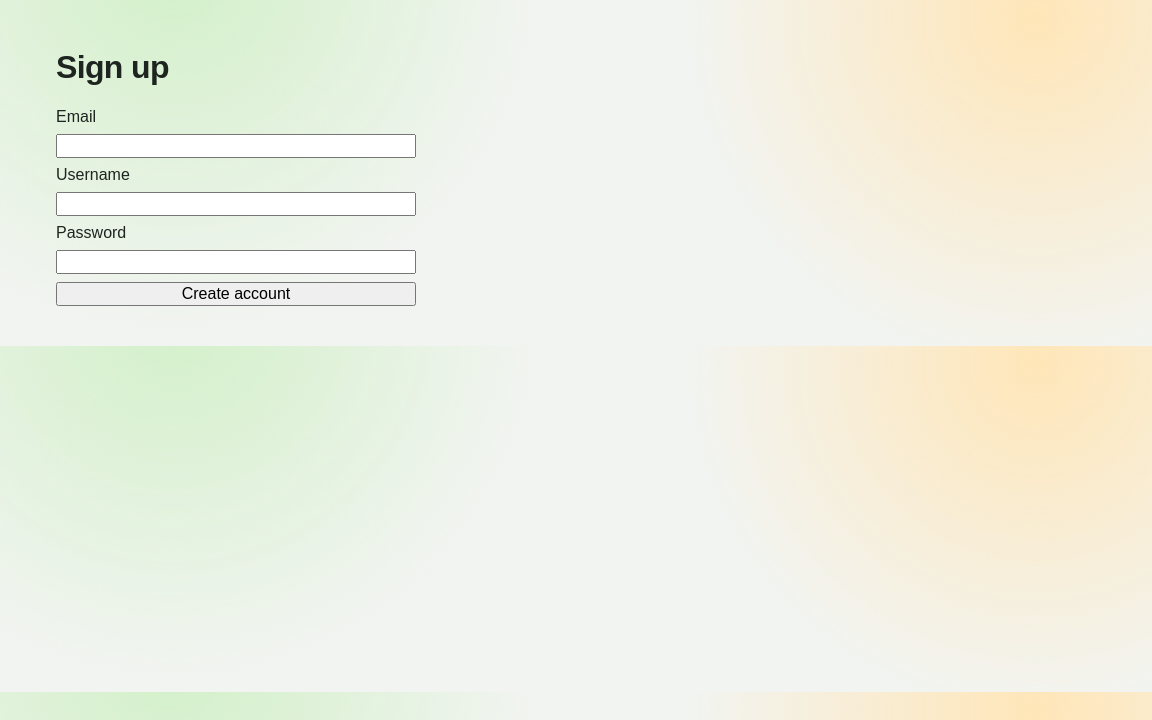
SignupPage › shows error when signup fails
The image size is (1152, 720).
In the field labelled "Email": point(236, 146) [56, 134, 416, 158], type "a@b.com"
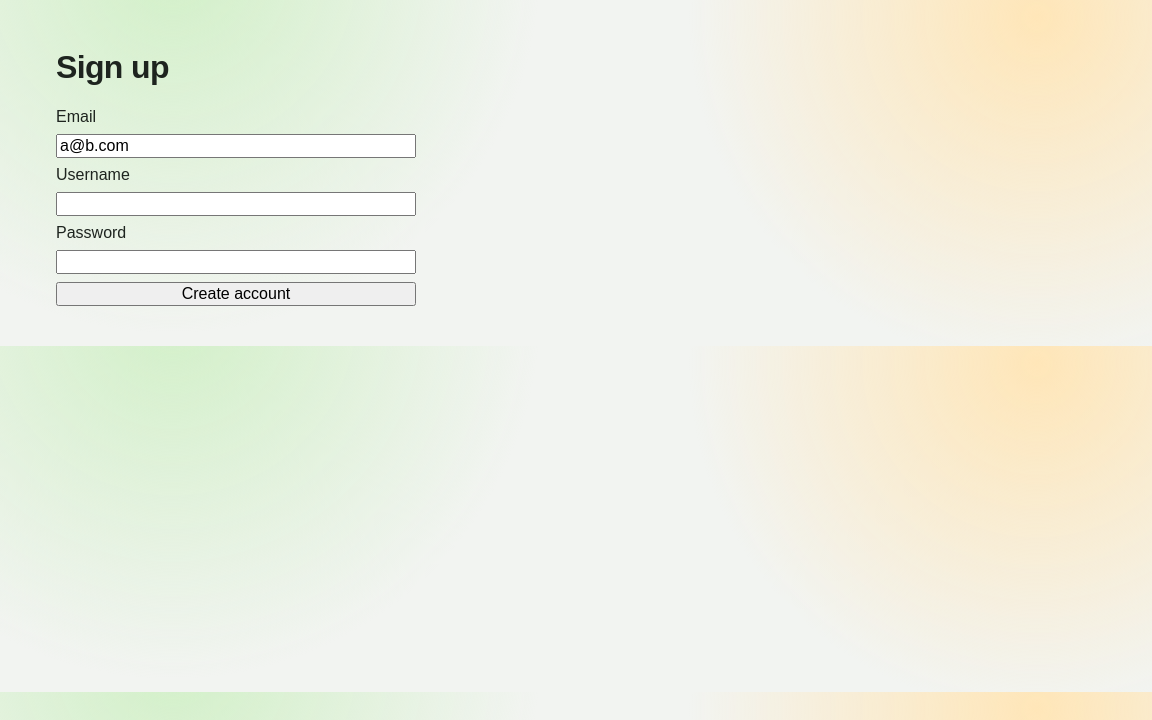
In the field labelled "Username": point(236, 204) [56, 192, 416, 216], type "Ben"
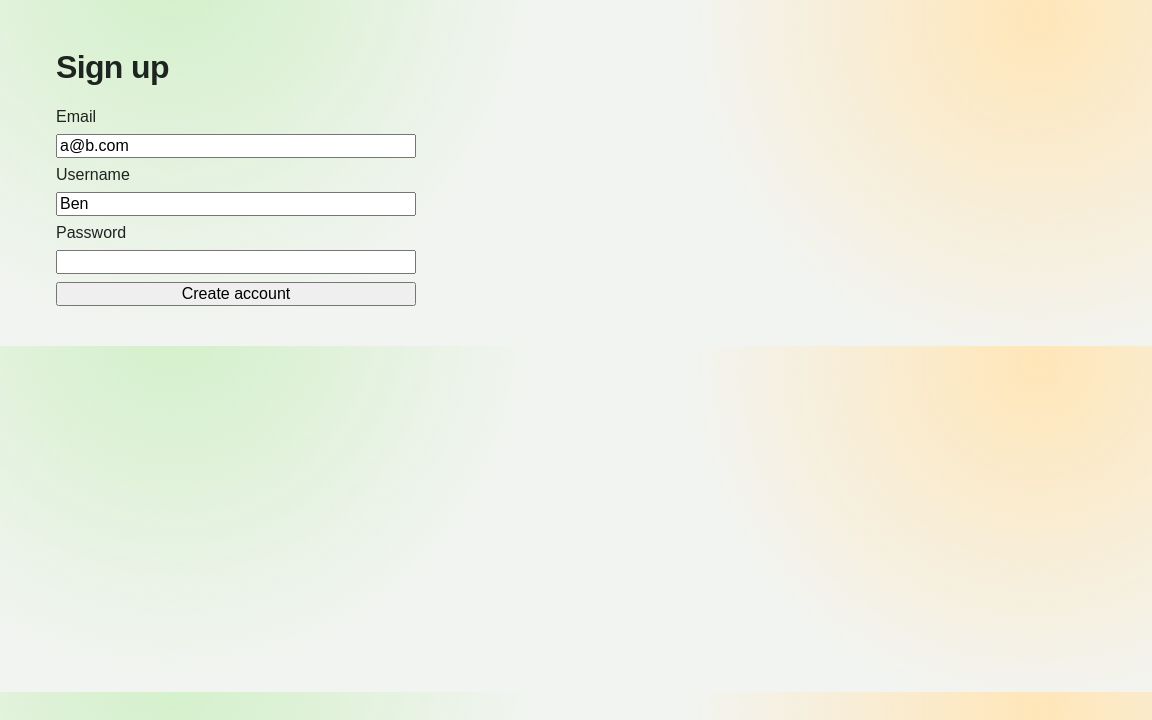
In the password field labelled "Password": point(236, 262) [56, 250, 416, 274], type "password123"
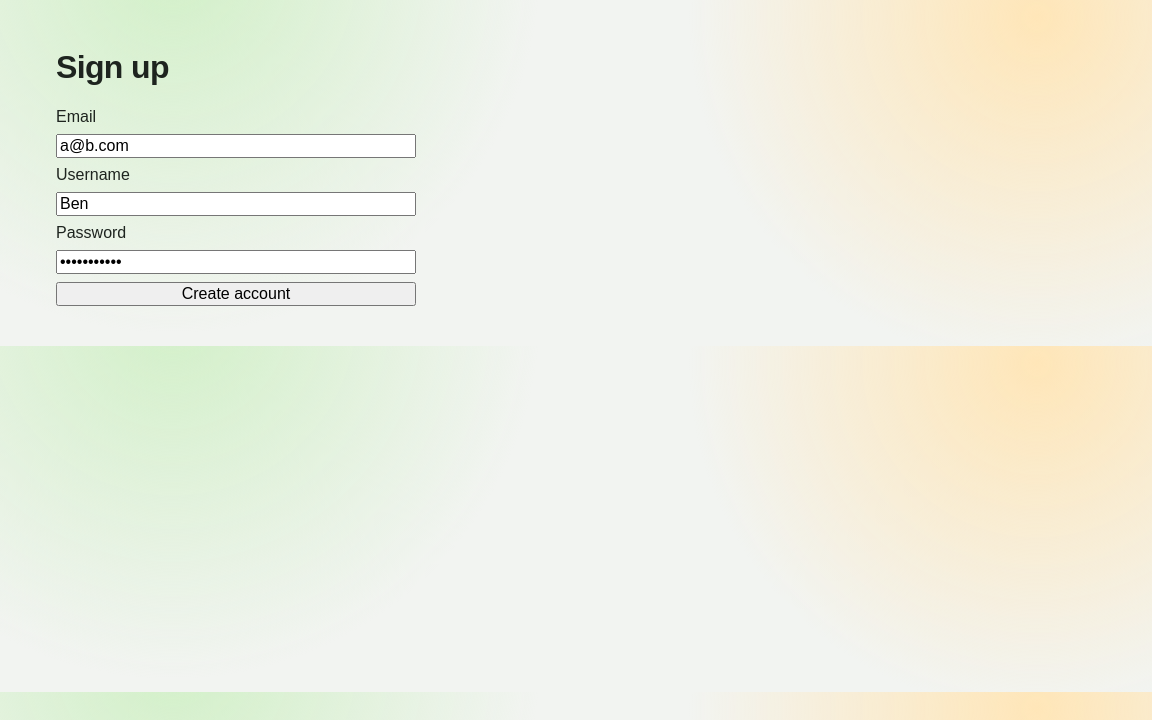
Click the button "Create account": point(236, 294) [56, 282, 416, 306]
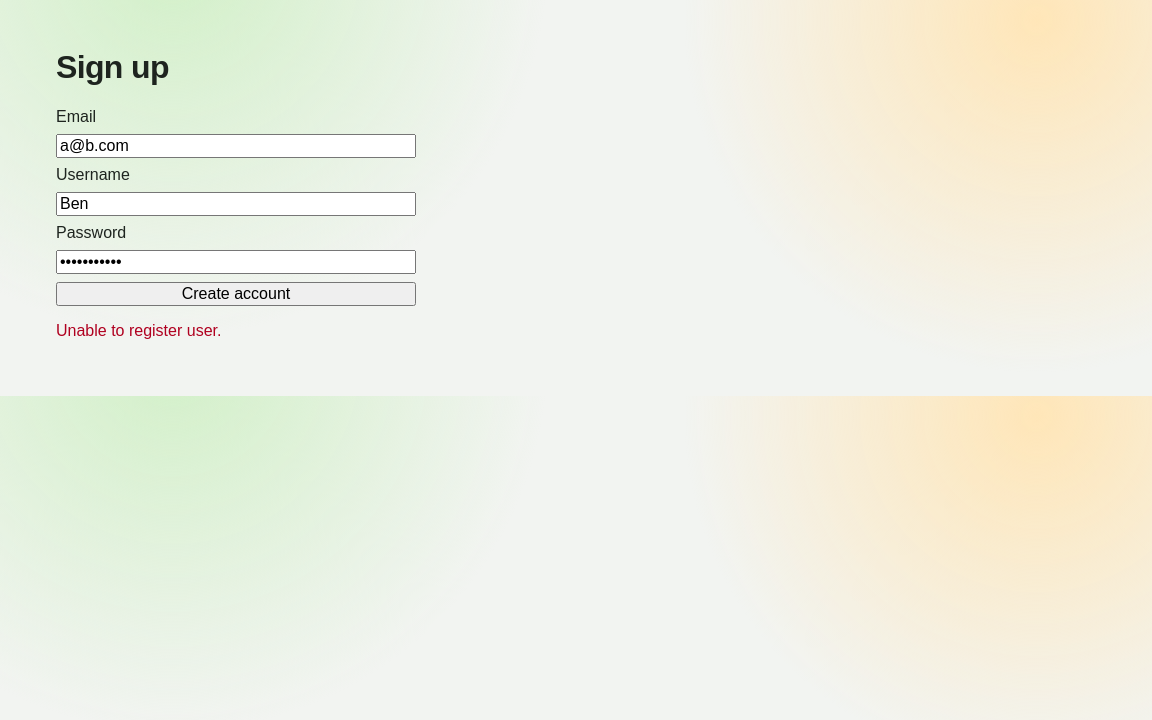
Expected: the text "Unable to register user." is shown, [56, 322, 221, 339]
